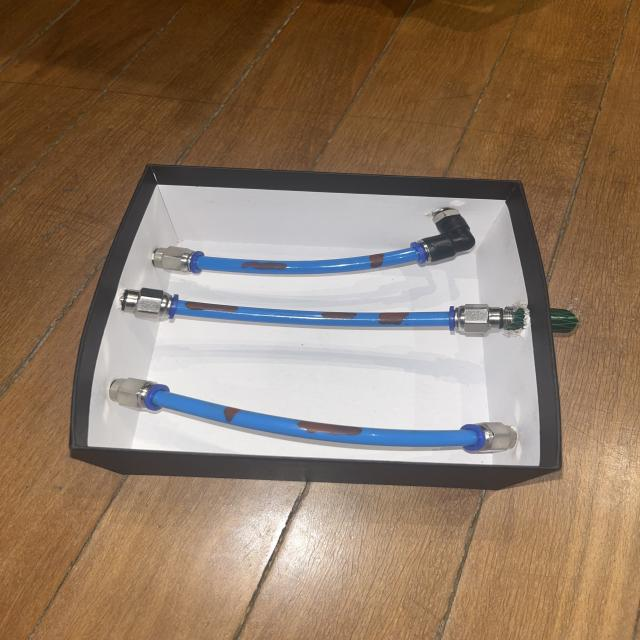hose_damage: (293, 419, 368, 437), (183, 300, 239, 315), (218, 403, 245, 424), (240, 260, 288, 271), (377, 311, 410, 327), (320, 310, 358, 321), (369, 254, 385, 268)
